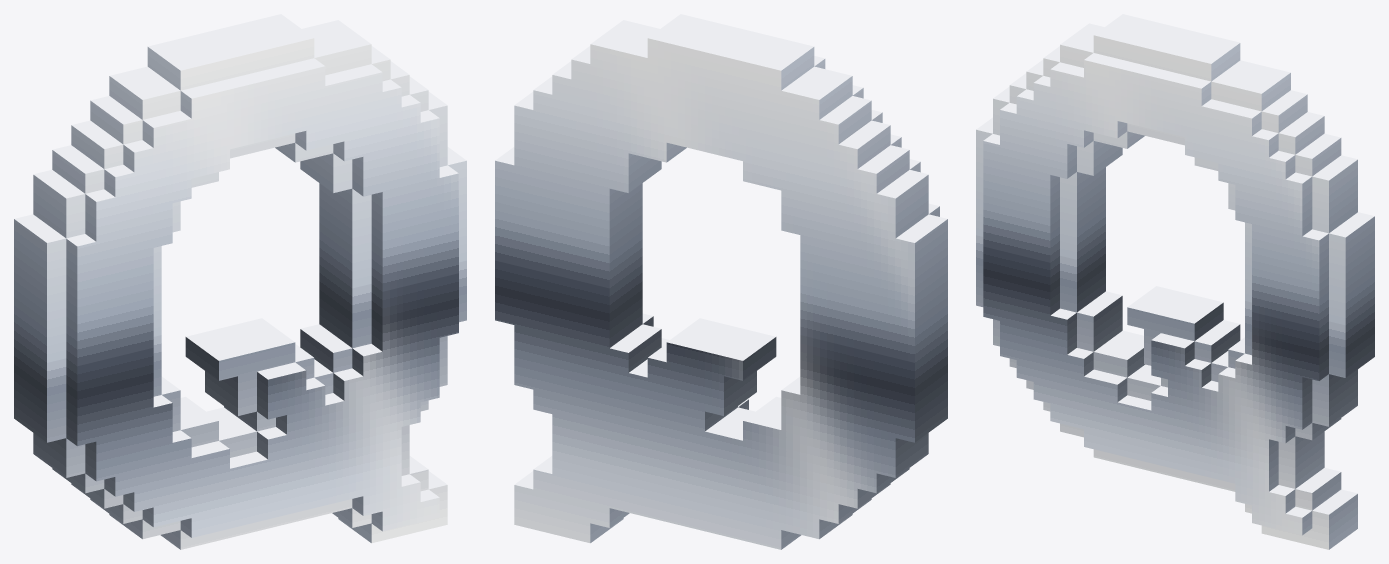
The picture shows the model from 3 angles, left to right: view 1: azimuth 30°, elevation 25°; view 2: azimuth 150°, elevation 25°; view 3: azimuth 330°, elevation 25°; orthographic projection. The views are drawn at different scales.
Visible parts, largest first — view 1: Letter Q; view 2: Letter Q; view 3: Letter Q.
Boxes of the visible parts, x1,y1,x2,y2 form: Letter Q: (14,14,466,549); Letter Q: (495,14,947,549); Letter Q: (976,14,1374,549).
Size of the model in its own units: 1.38 by 1.62 by 0.25.
1 material, 1 textured.
